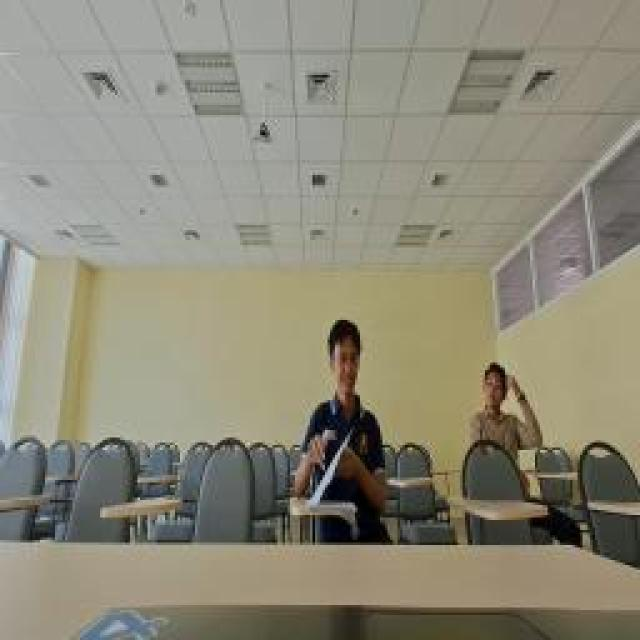study: (295, 318, 395, 542), (460, 350, 542, 502)
